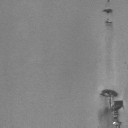slag inclusion: (98, 89, 124, 128), (104, 18, 114, 27), (101, 8, 114, 14), (106, 0, 110, 5)
